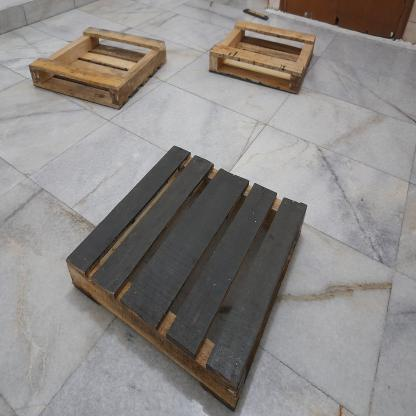Wooden-Pallet: (66, 142, 312, 415), (28, 24, 168, 111), (208, 17, 317, 96)
